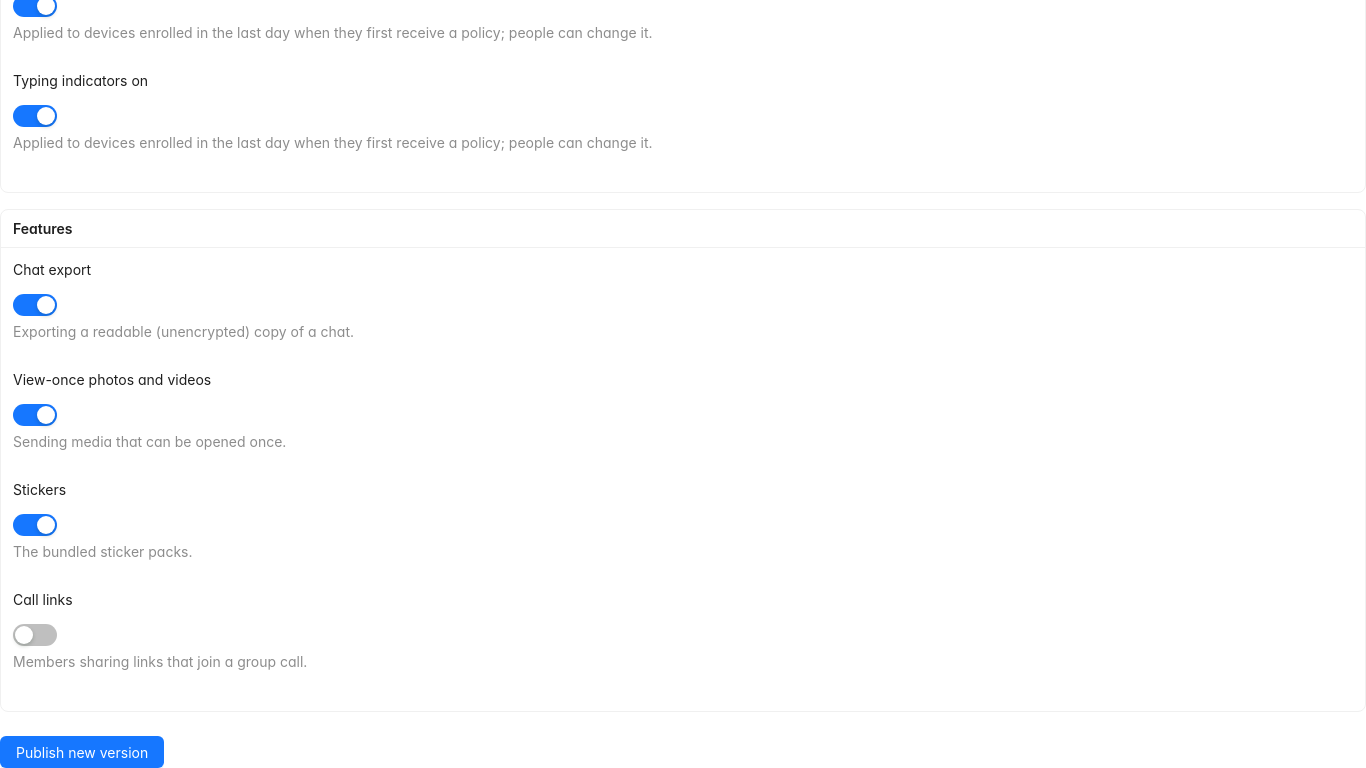
Test: Organization policy page › a concurrent edit reloads the newer version instead of overwriting it
(page scrolled)
Click the button with test id "policy-publish" at (82, 752), box [0,736,164,767]
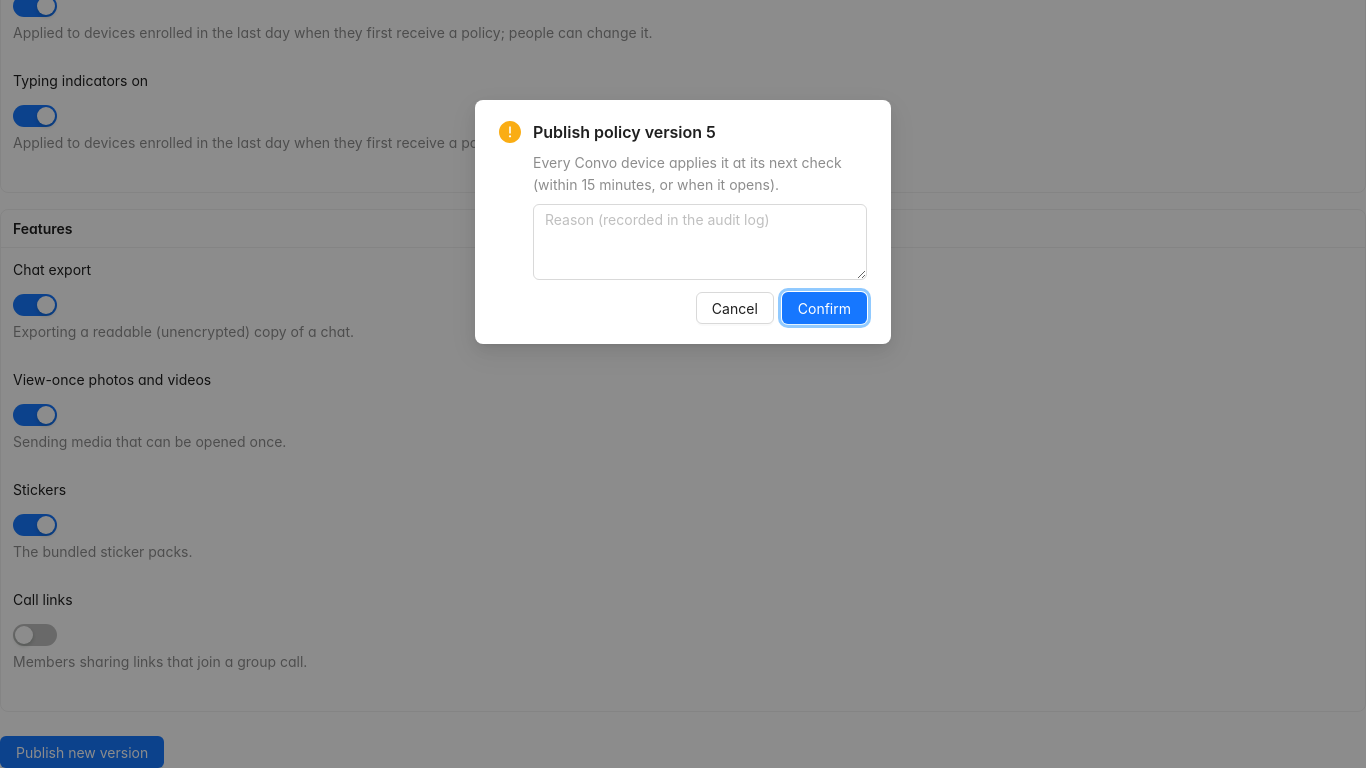
Type "tweak" into the text box with test id "reason-input" at (700, 242), box [533,204,867,280]
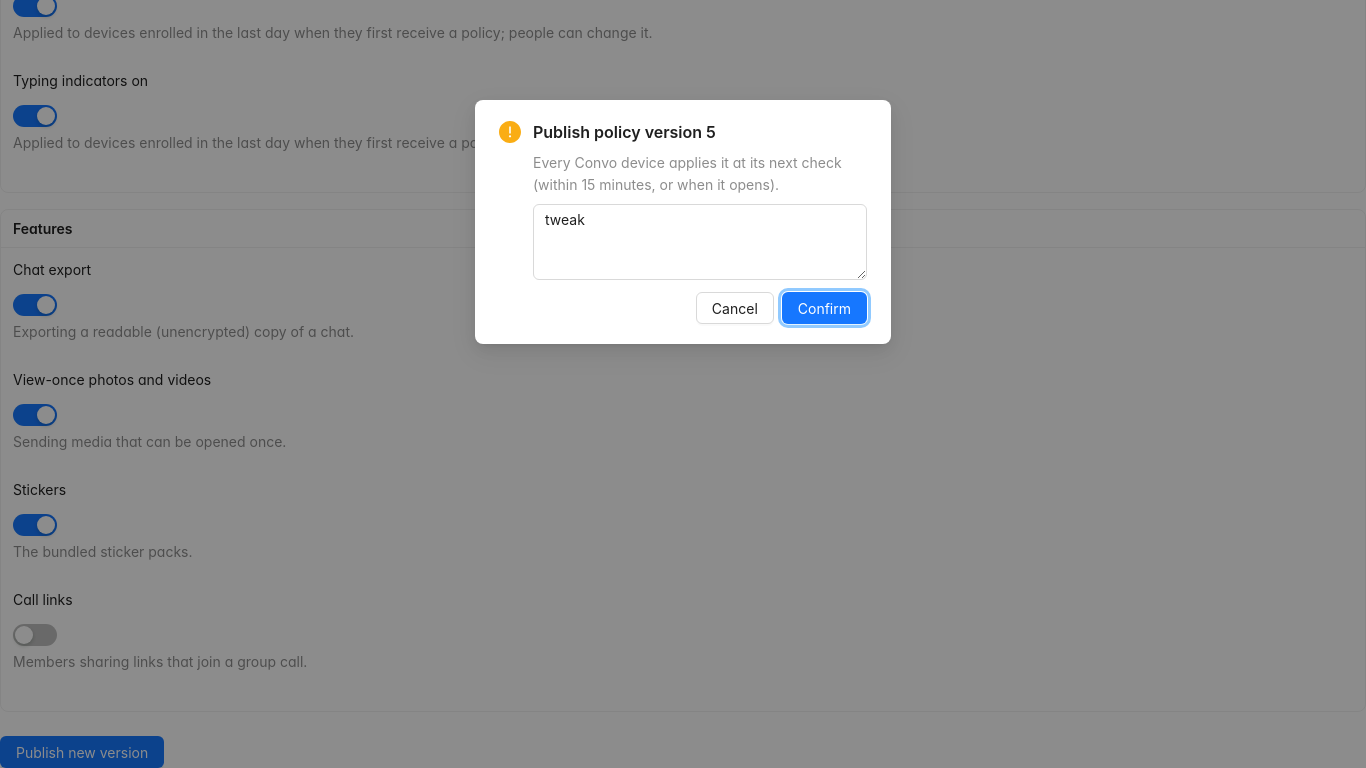
Click the button with test id "reason-confirm" at (824, 308), box [782,292,867,324]
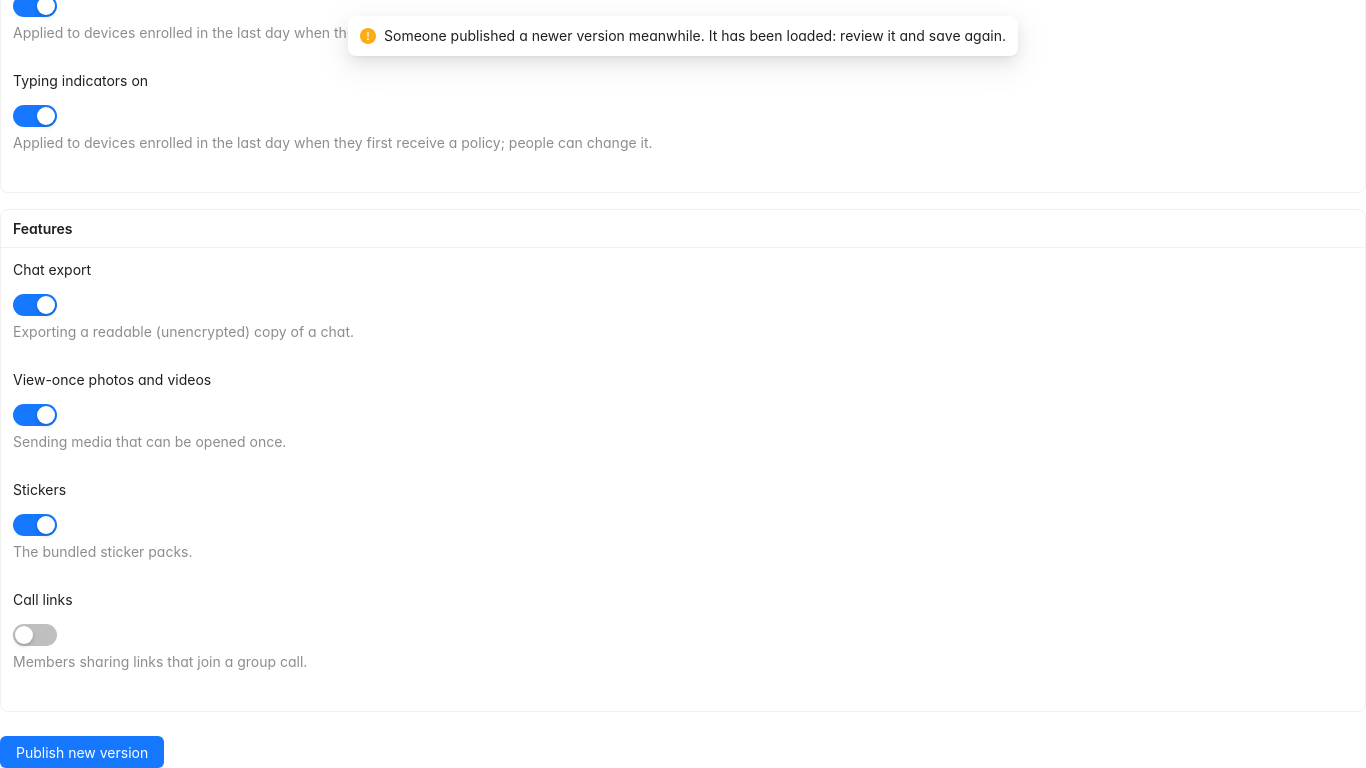
Check: the text "Someone published a newer version meanwhile" is shown, box [384,27,1006,44]
